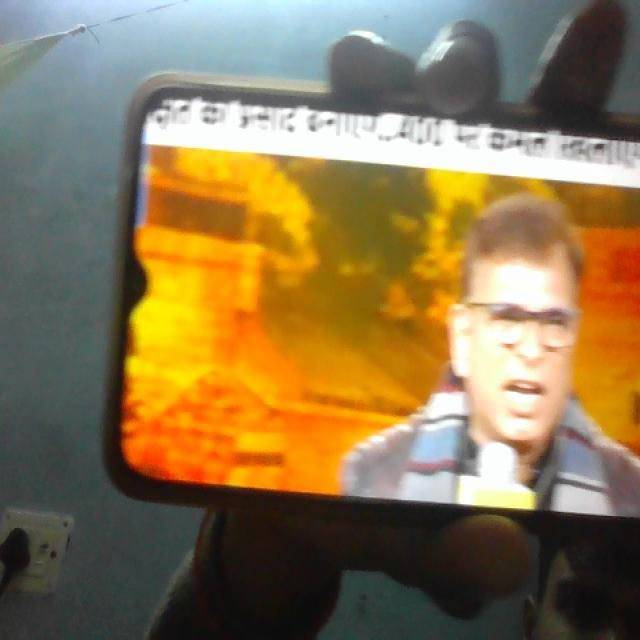fake: (450, 201, 592, 471)
